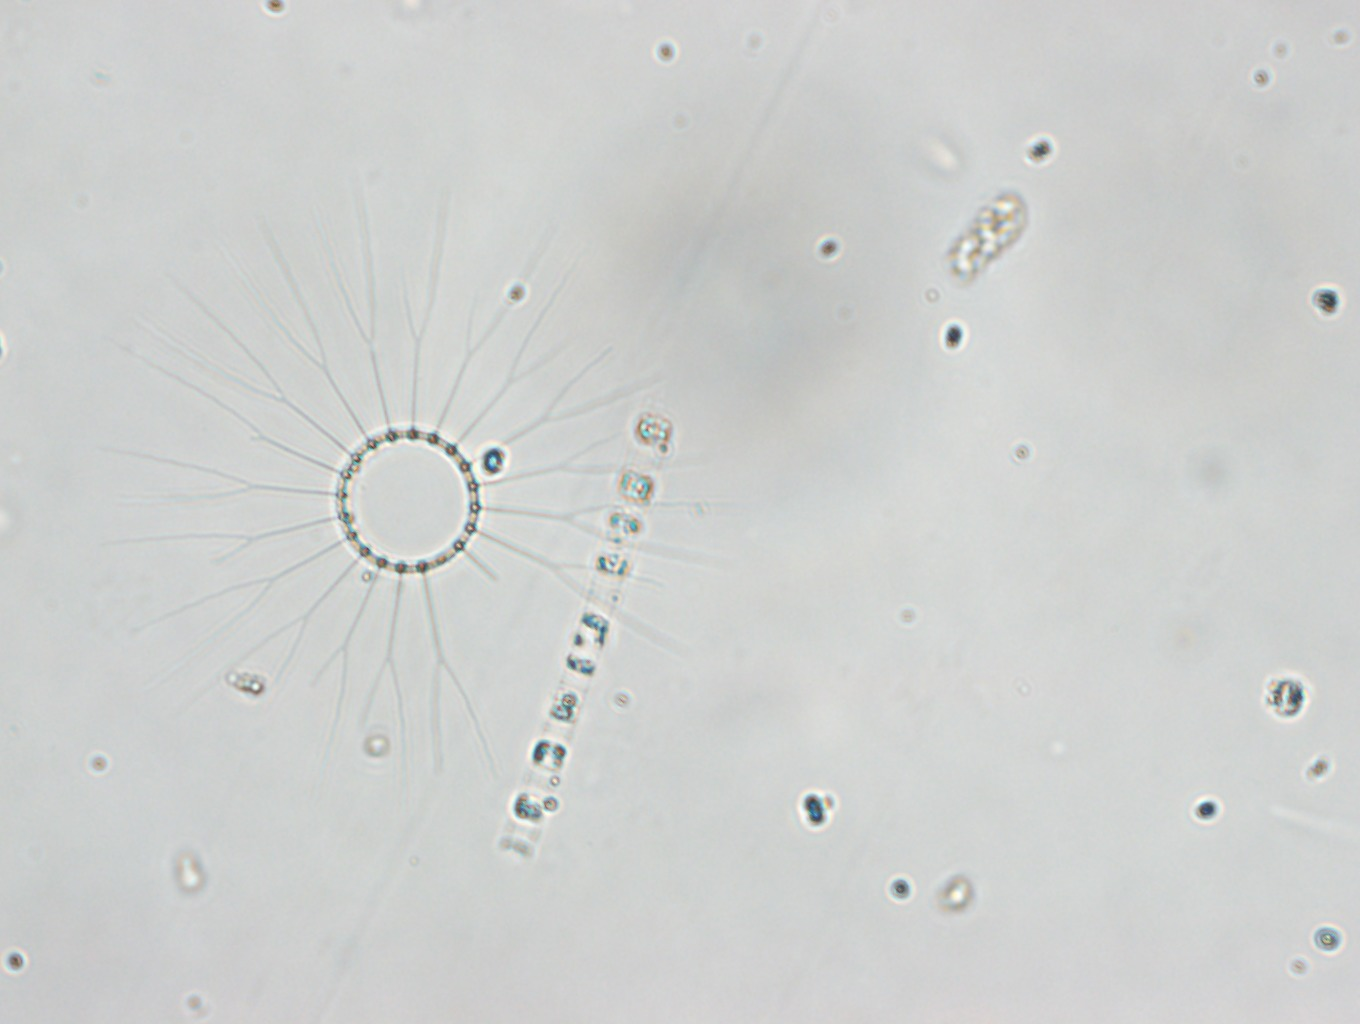bacteriastrum: (151, 221, 700, 749)
skeletonema: (509, 402, 686, 865)
